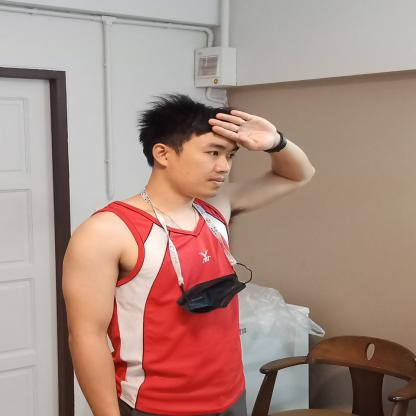Sick: (206, 95, 324, 208)
